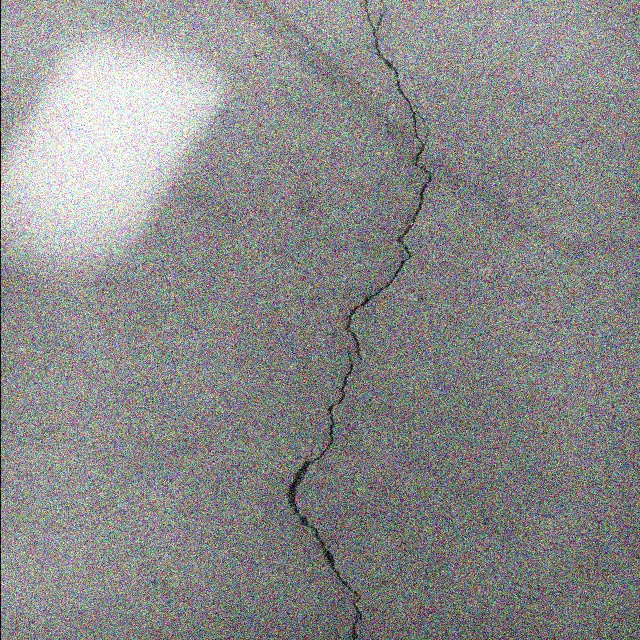SurfaceCrack: (261, 1, 458, 640)
